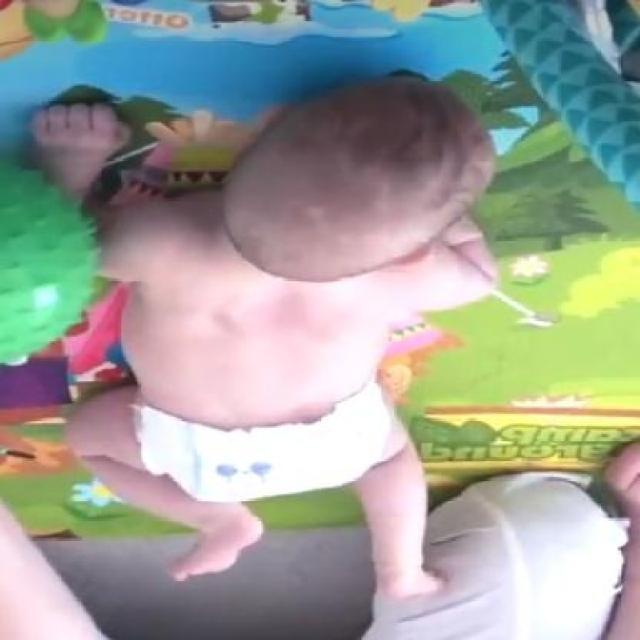baby: (29, 77, 502, 600)
